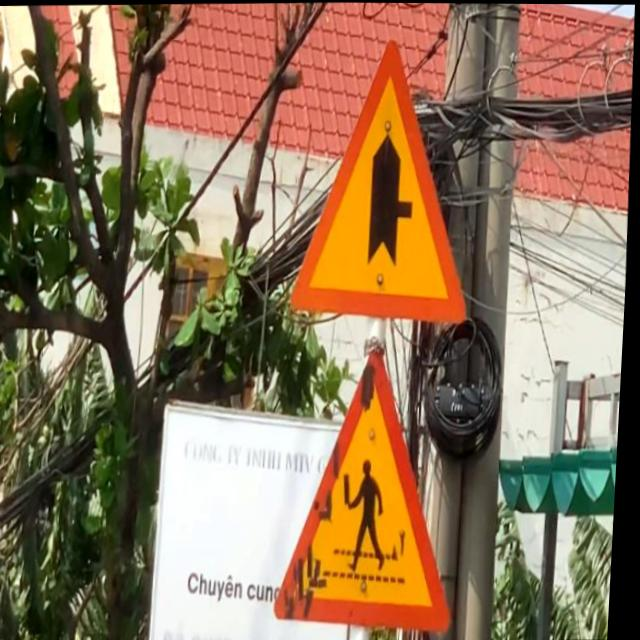Giao nhau voi duong khong uu tien ben phai: (286, 28, 482, 331)
Nguoi di bo cat ngang: (272, 334, 472, 639)
